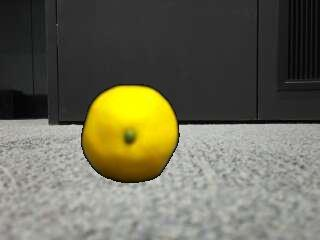lemon: (82, 84, 177, 181)
